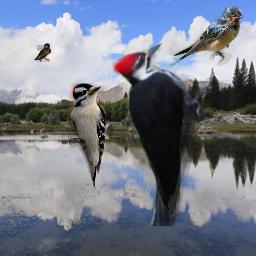Swallow: (169, 6, 243, 69), (34, 43, 51, 62)
Woodpecker: (109, 42, 213, 226), (68, 83, 106, 189)
